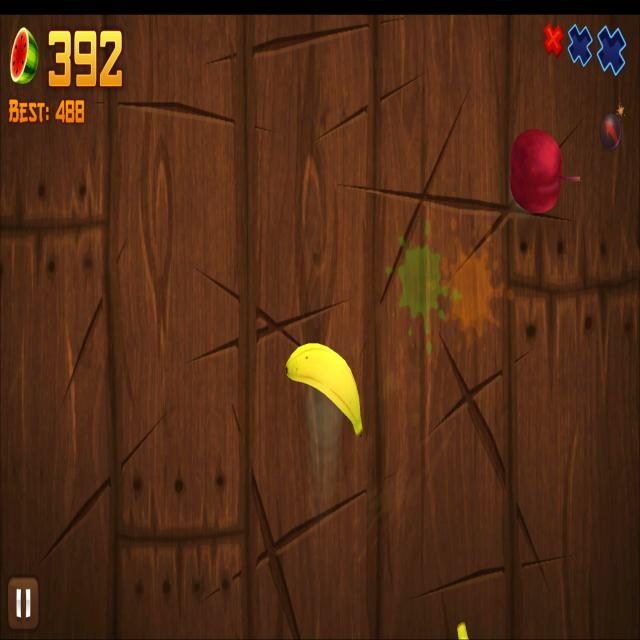fruit: (286, 342, 363, 437), (509, 128, 563, 213)
